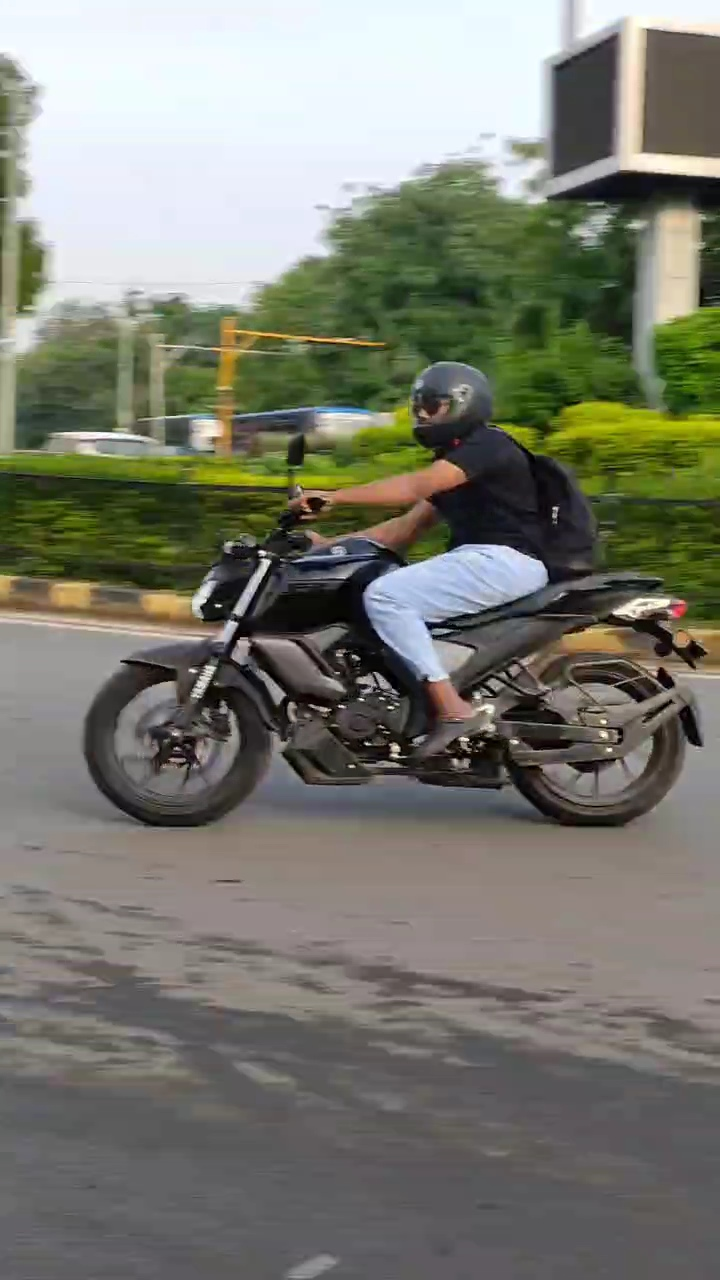BikeWithRider: (74, 358, 713, 828)
Helmet: (402, 358, 498, 446)
